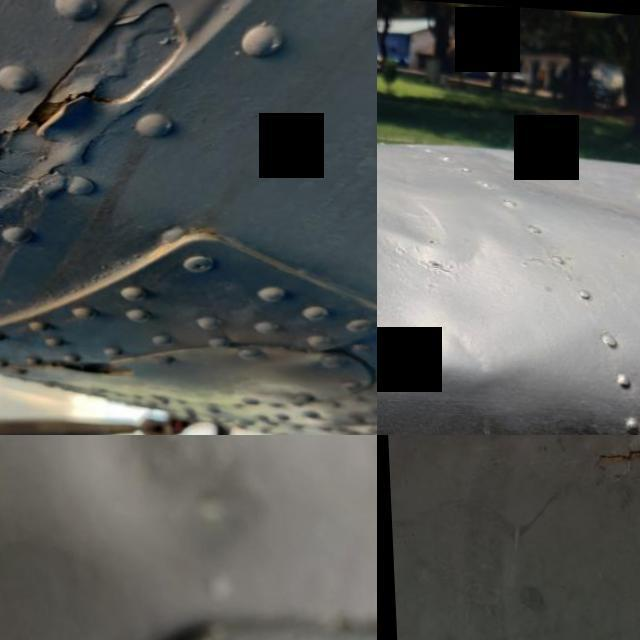Crack: (0, 68, 123, 157), (581, 435, 640, 489)
Dent: (377, 168, 564, 425), (26, 435, 289, 585)
